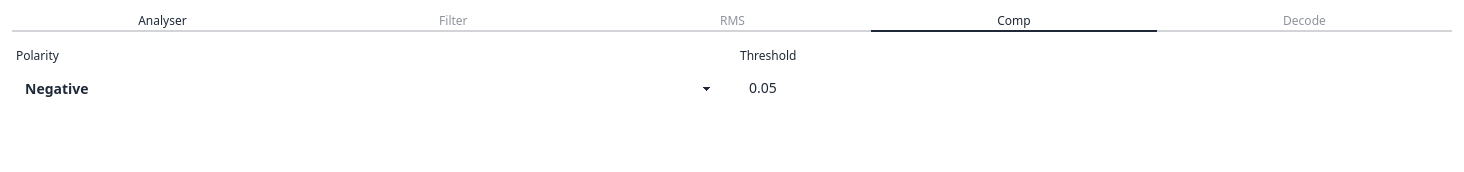
can show Decode settings
Click the button "Decode". click: click(1304, 22)
box: [1157,12,1452,32]
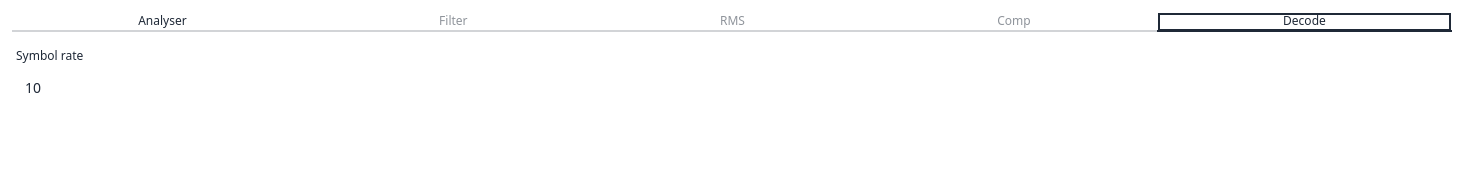
Now the text "Symbol rate" is shown, box [16,47,83,64]
